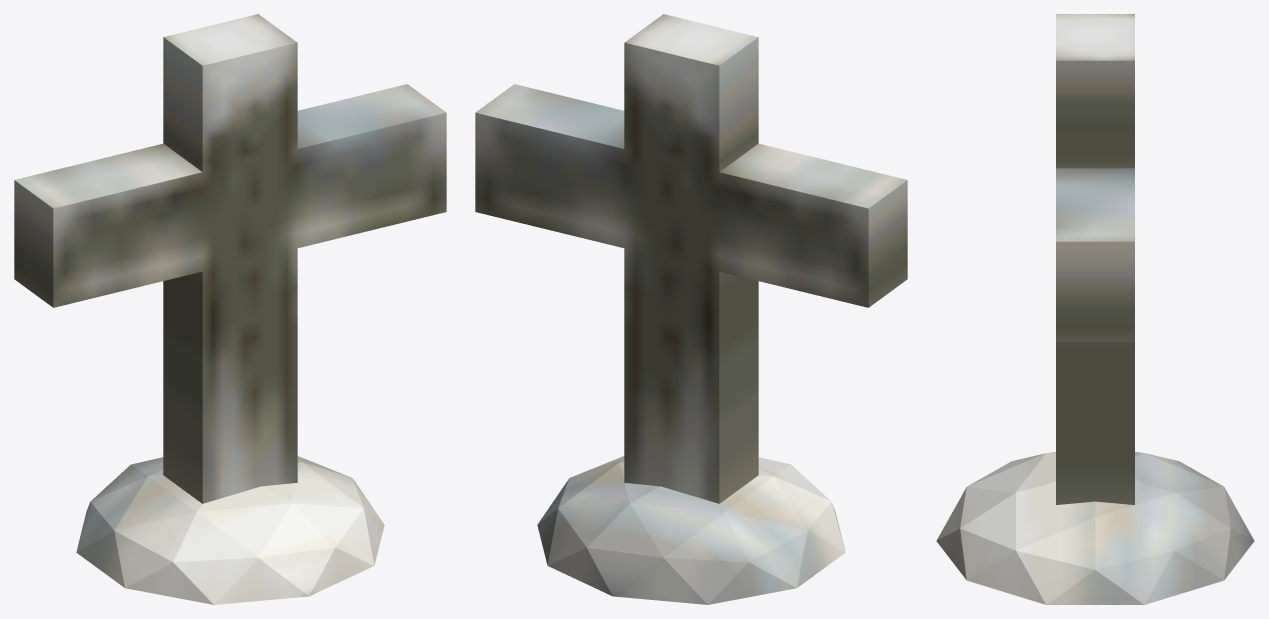
File: Poly_Tomb_Stone_03_Snow.obj
The picture shows the model from 3 angles, left to right: view 1: azimuth 30°, elevation 25°; view 2: azimuth 150°, elevation 25°; view 3: azimuth 270°, elevation 25°; orthographic projection.
Visible parts, largest first — view 1: Icosphere_Icosphere.001; view 2: Icosphere_Icosphere.001; view 3: Icosphere_Icosphere.001.
Boxes of the visible parts, bbox=[...] form: Icosphere_Icosphere.001: bbox=[14, 14, 446, 604]; Icosphere_Icosphere.001: bbox=[475, 14, 907, 604]; Icosphere_Icosphere.001: bbox=[936, 14, 1254, 604].
Size of the model in its own units: 0.58 by 0.7031 by 0.4027.
1 material, 1 textured.
